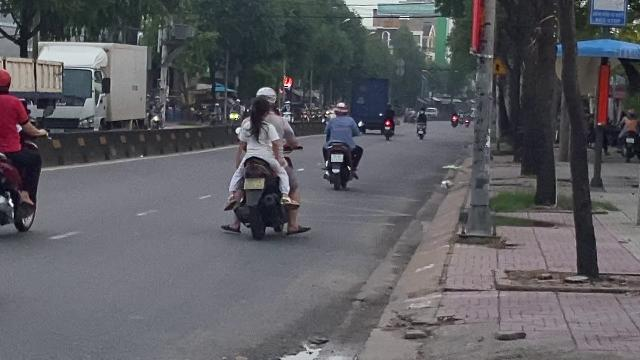helmet: (254, 86, 276, 102)
licenseplate: (244, 178, 264, 188)
motorcyclist: (222, 84, 306, 240)
nohelmet: (250, 96, 272, 120)
